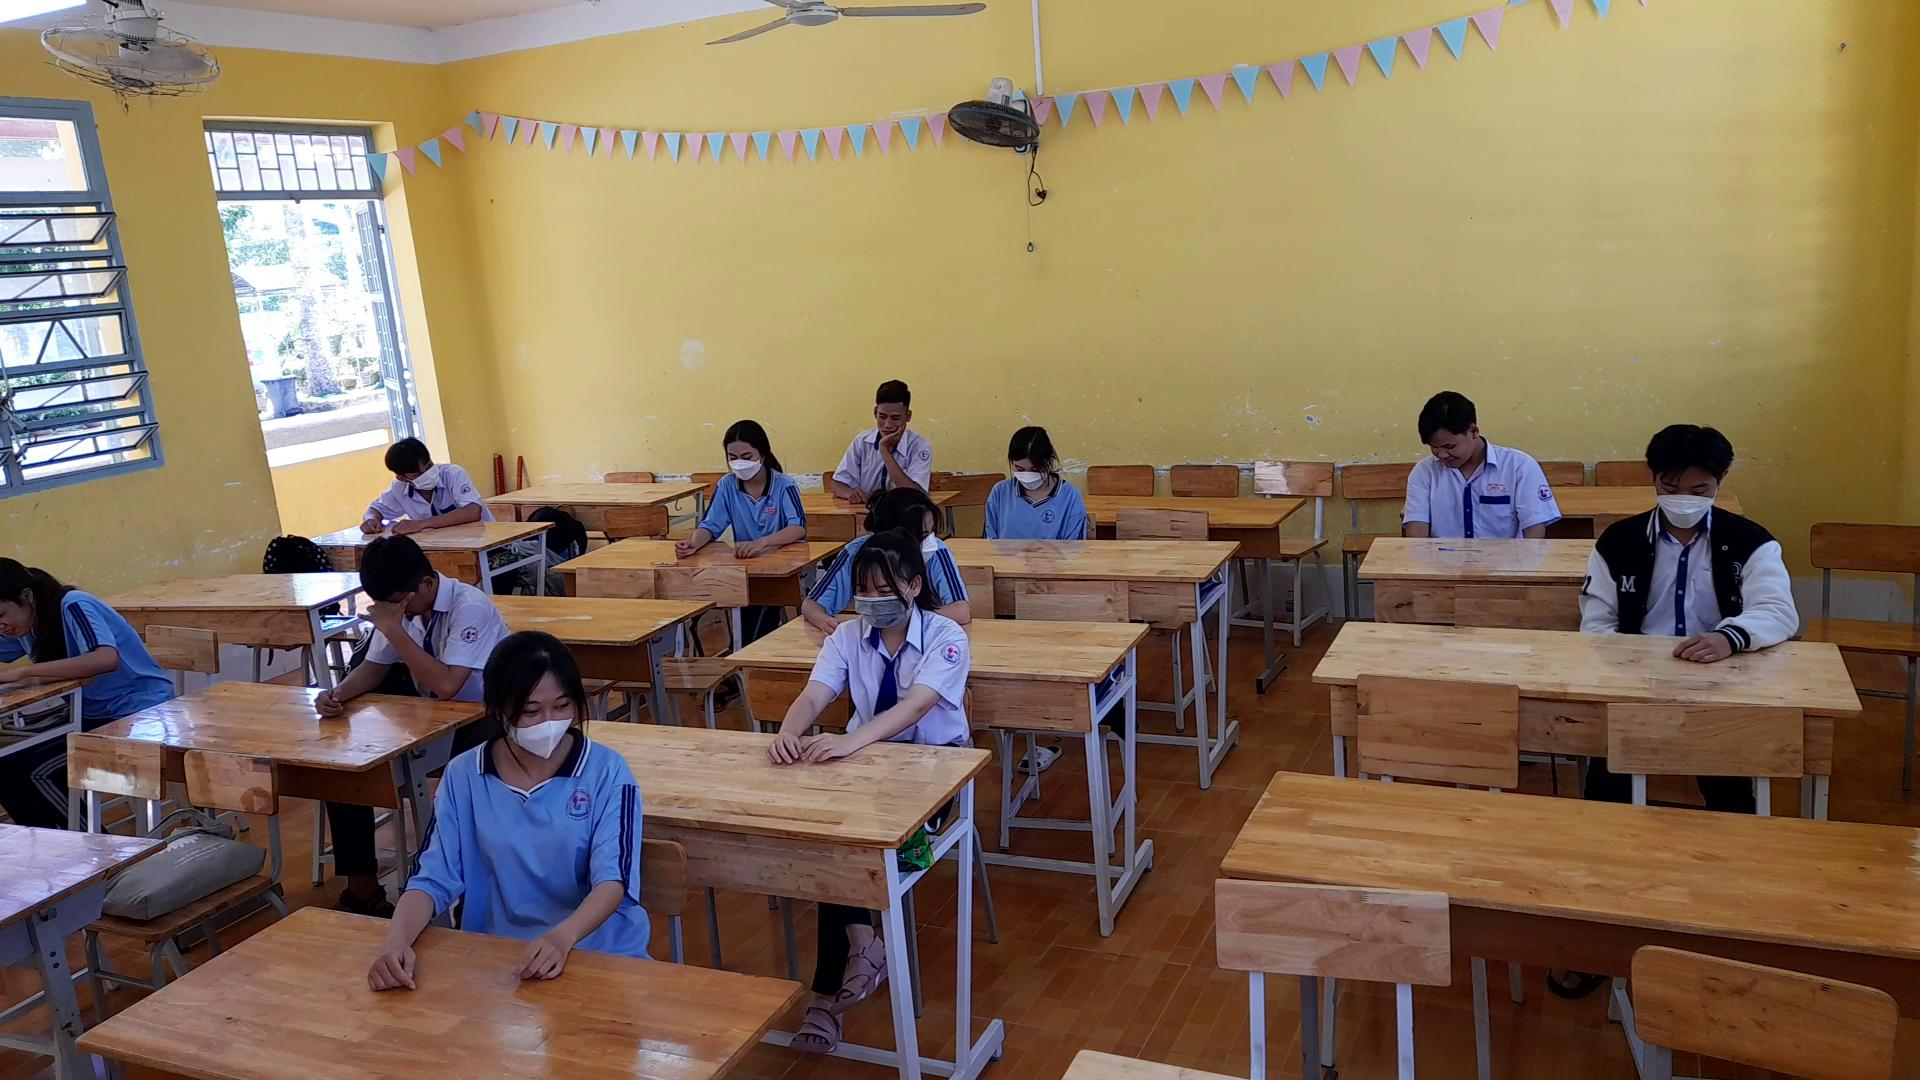Bend Over The Desk: (473, 618, 589, 770), (1629, 415, 1735, 537), (975, 407, 1069, 508), (1396, 381, 1491, 481), (353, 522, 448, 621)
Hand Under Table: (1573, 520, 1630, 646), (1394, 458, 1433, 541), (1054, 473, 1092, 555), (967, 473, 1005, 555), (1513, 455, 1551, 537)
Look Around: (356, 430, 450, 493)
Normal: (766, 522, 976, 777), (655, 407, 811, 568)
Wave: (361, 601, 479, 699), (866, 422, 913, 492)
